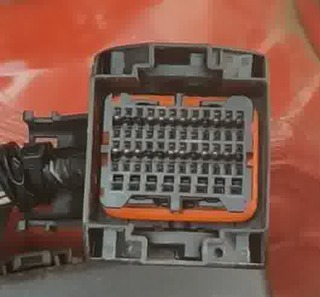connector: (82, 42, 269, 270)
